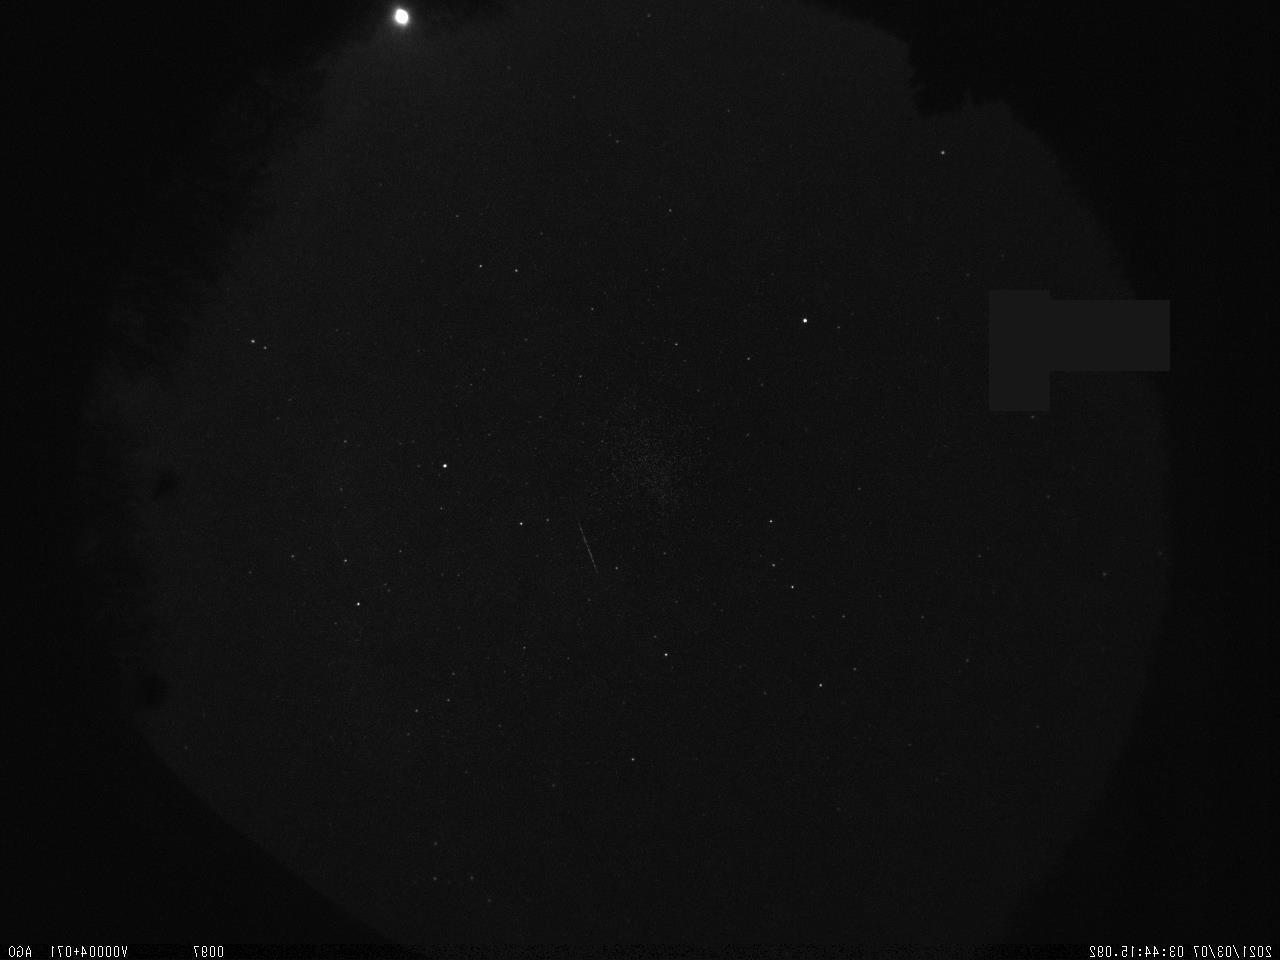meteor: (559, 512, 626, 587)
